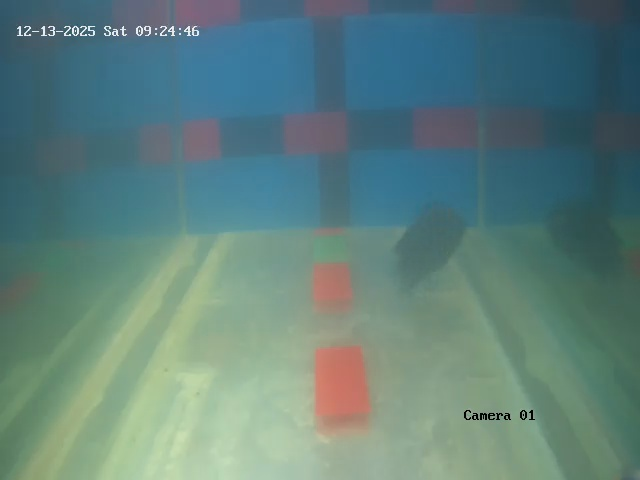fish: (359, 193, 431, 280)
